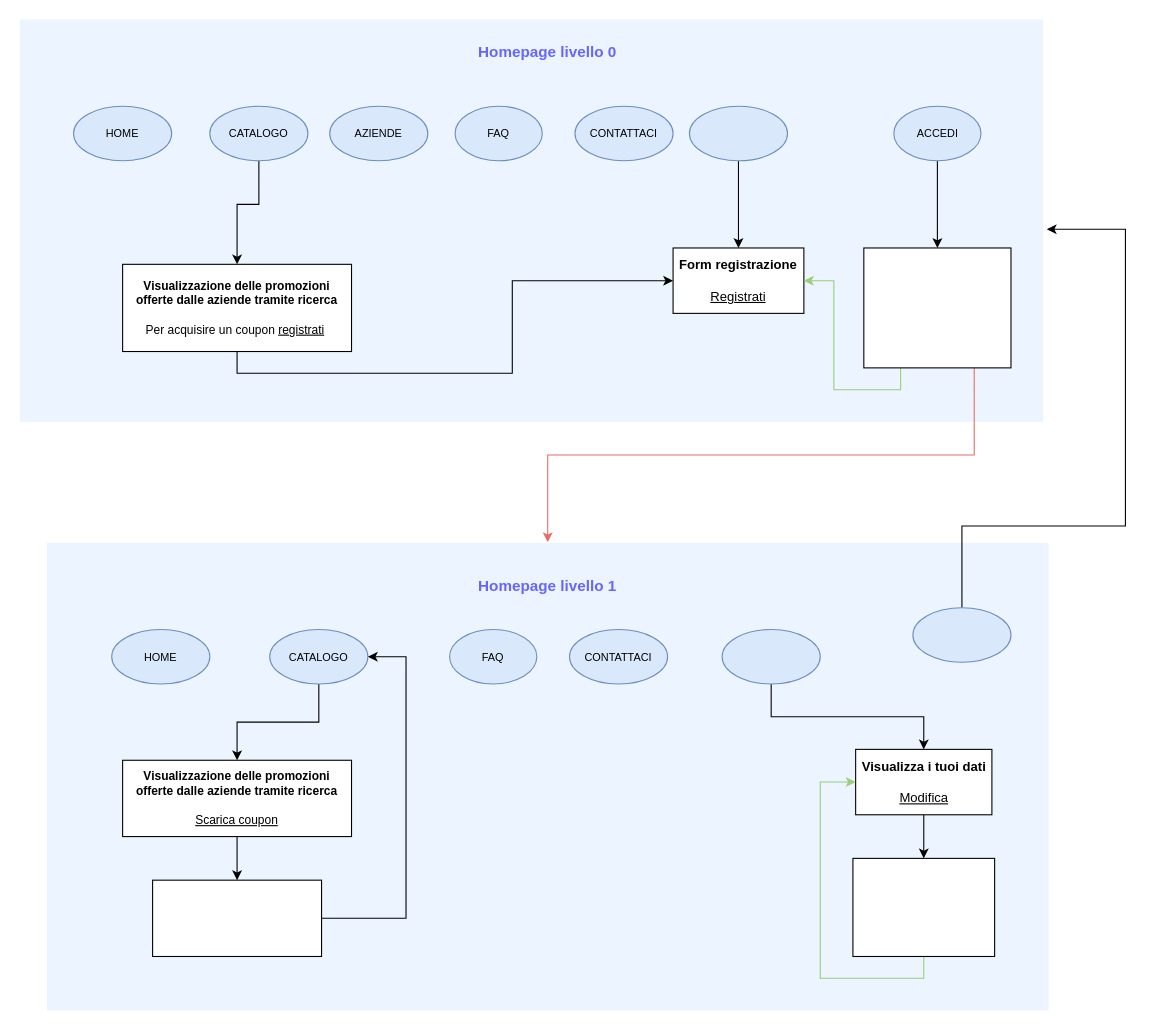
Some shapes in this 1153 by 1030 pixel diagram are drawn without their labels. Here are the shapes that lost their labels. From the top down, the centre of each, then its label:
(738,133): REGISTRATI
(937,307): Form accesso Accedi Se non sei registrato crea il tuo account
(961,634): LOGOUT
(770,656): DATI UTENTE
(237,917): Visualizzazione coupon Indietro
(923,906): Form modifica Conferma Indietro
